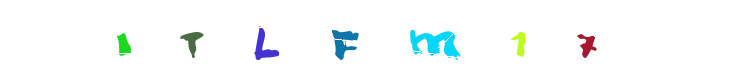1: (480, 0, 560, 80)
7: (547, 0, 627, 80)
F: (332, 0, 412, 80)
I: (120, 0, 200, 80)
L: (303, 0, 383, 80)
M: (395, 0, 475, 80)
T: (268, 0, 348, 80)
